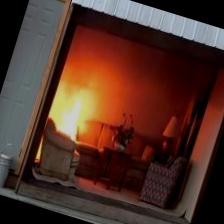fire: (58, 107, 82, 136)
